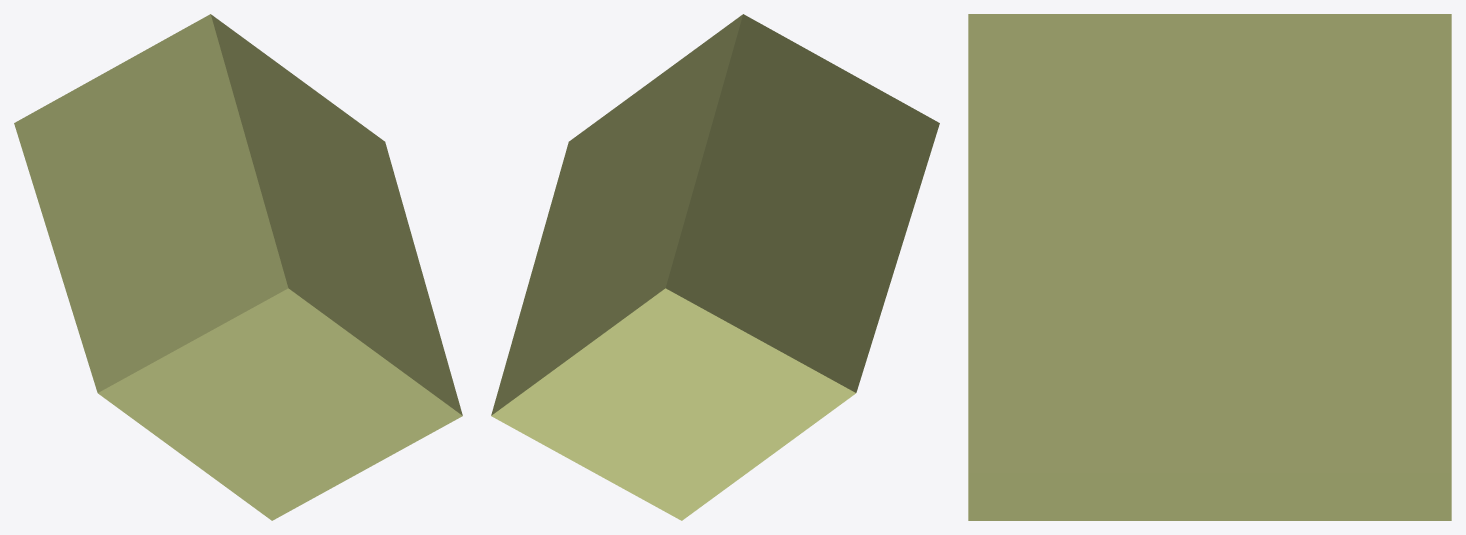
3 views of the same model, side by side, from view 1: azimuth 30°, elevation 25°; view 2: azimuth 150°, elevation 25°; view 3: azimuth 270°, elevation 25° (orthographic). The views are drawn at different scales.
Visible parts, largest first — view 1: 0_1_2_0_3_3_3_1_0_3_3; view 2: 0_1_2_0_3_3_3_1_0_3_3; view 3: 0_1_2_0_3_3_3_1_0_3_3.
Part boxes in pixels (left/top/right/bottom): 0_1_2_0_3_3_3_1_0_3_3: left=14, top=14, right=462, bottom=520; 0_1_2_0_3_3_3_1_0_3_3: left=491, top=14, right=939, bottom=520; 0_1_2_0_3_3_3_1_0_3_3: left=968, top=14, right=1451, bottom=520.
Size of the model in its own units: 5.45 by 6.67 by 6.
